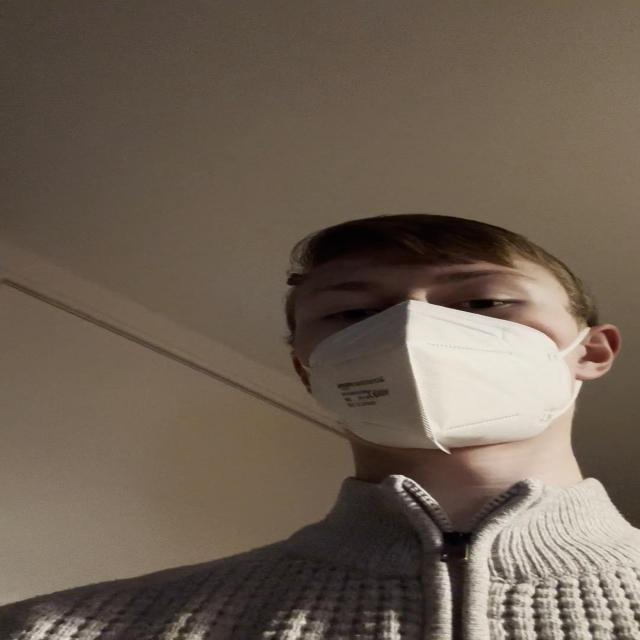no-helmet: (291, 245, 582, 449)
